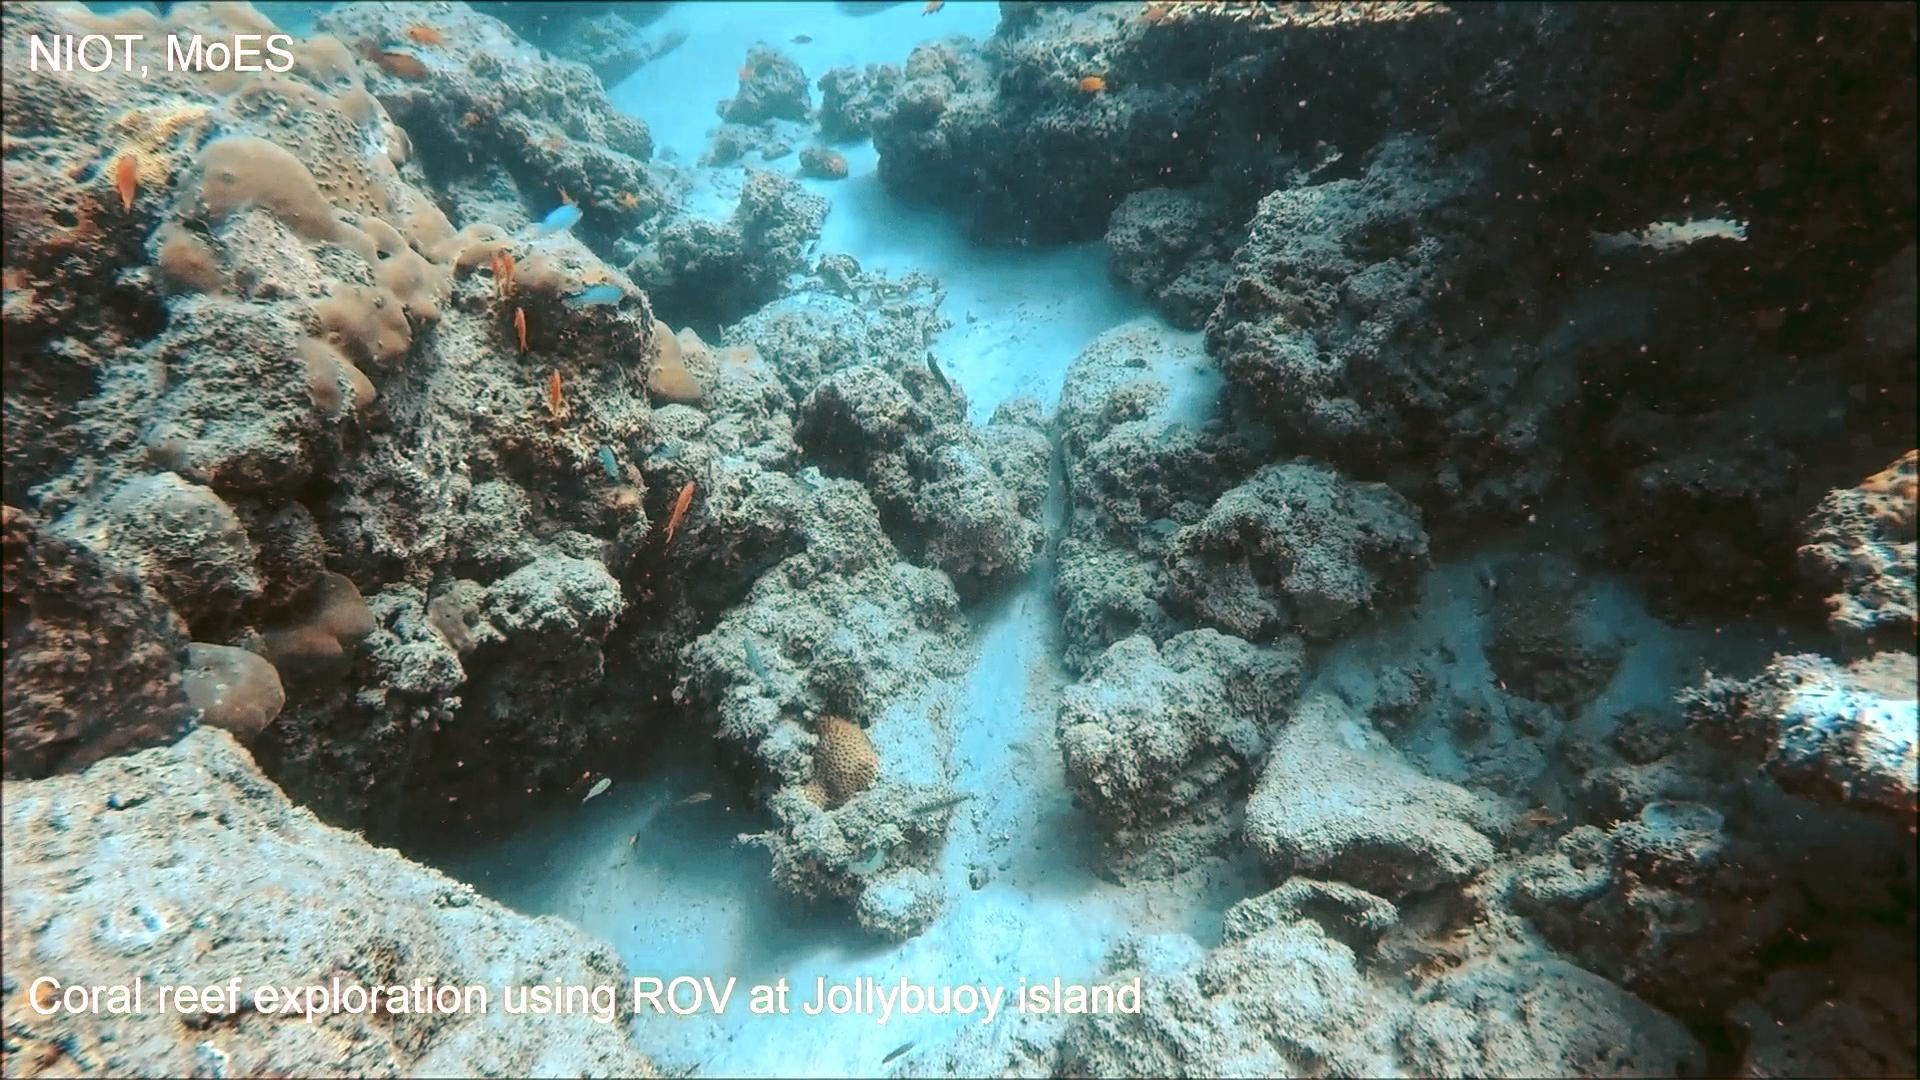Porites-Porites pukoensis: (152, 5, 572, 411)
